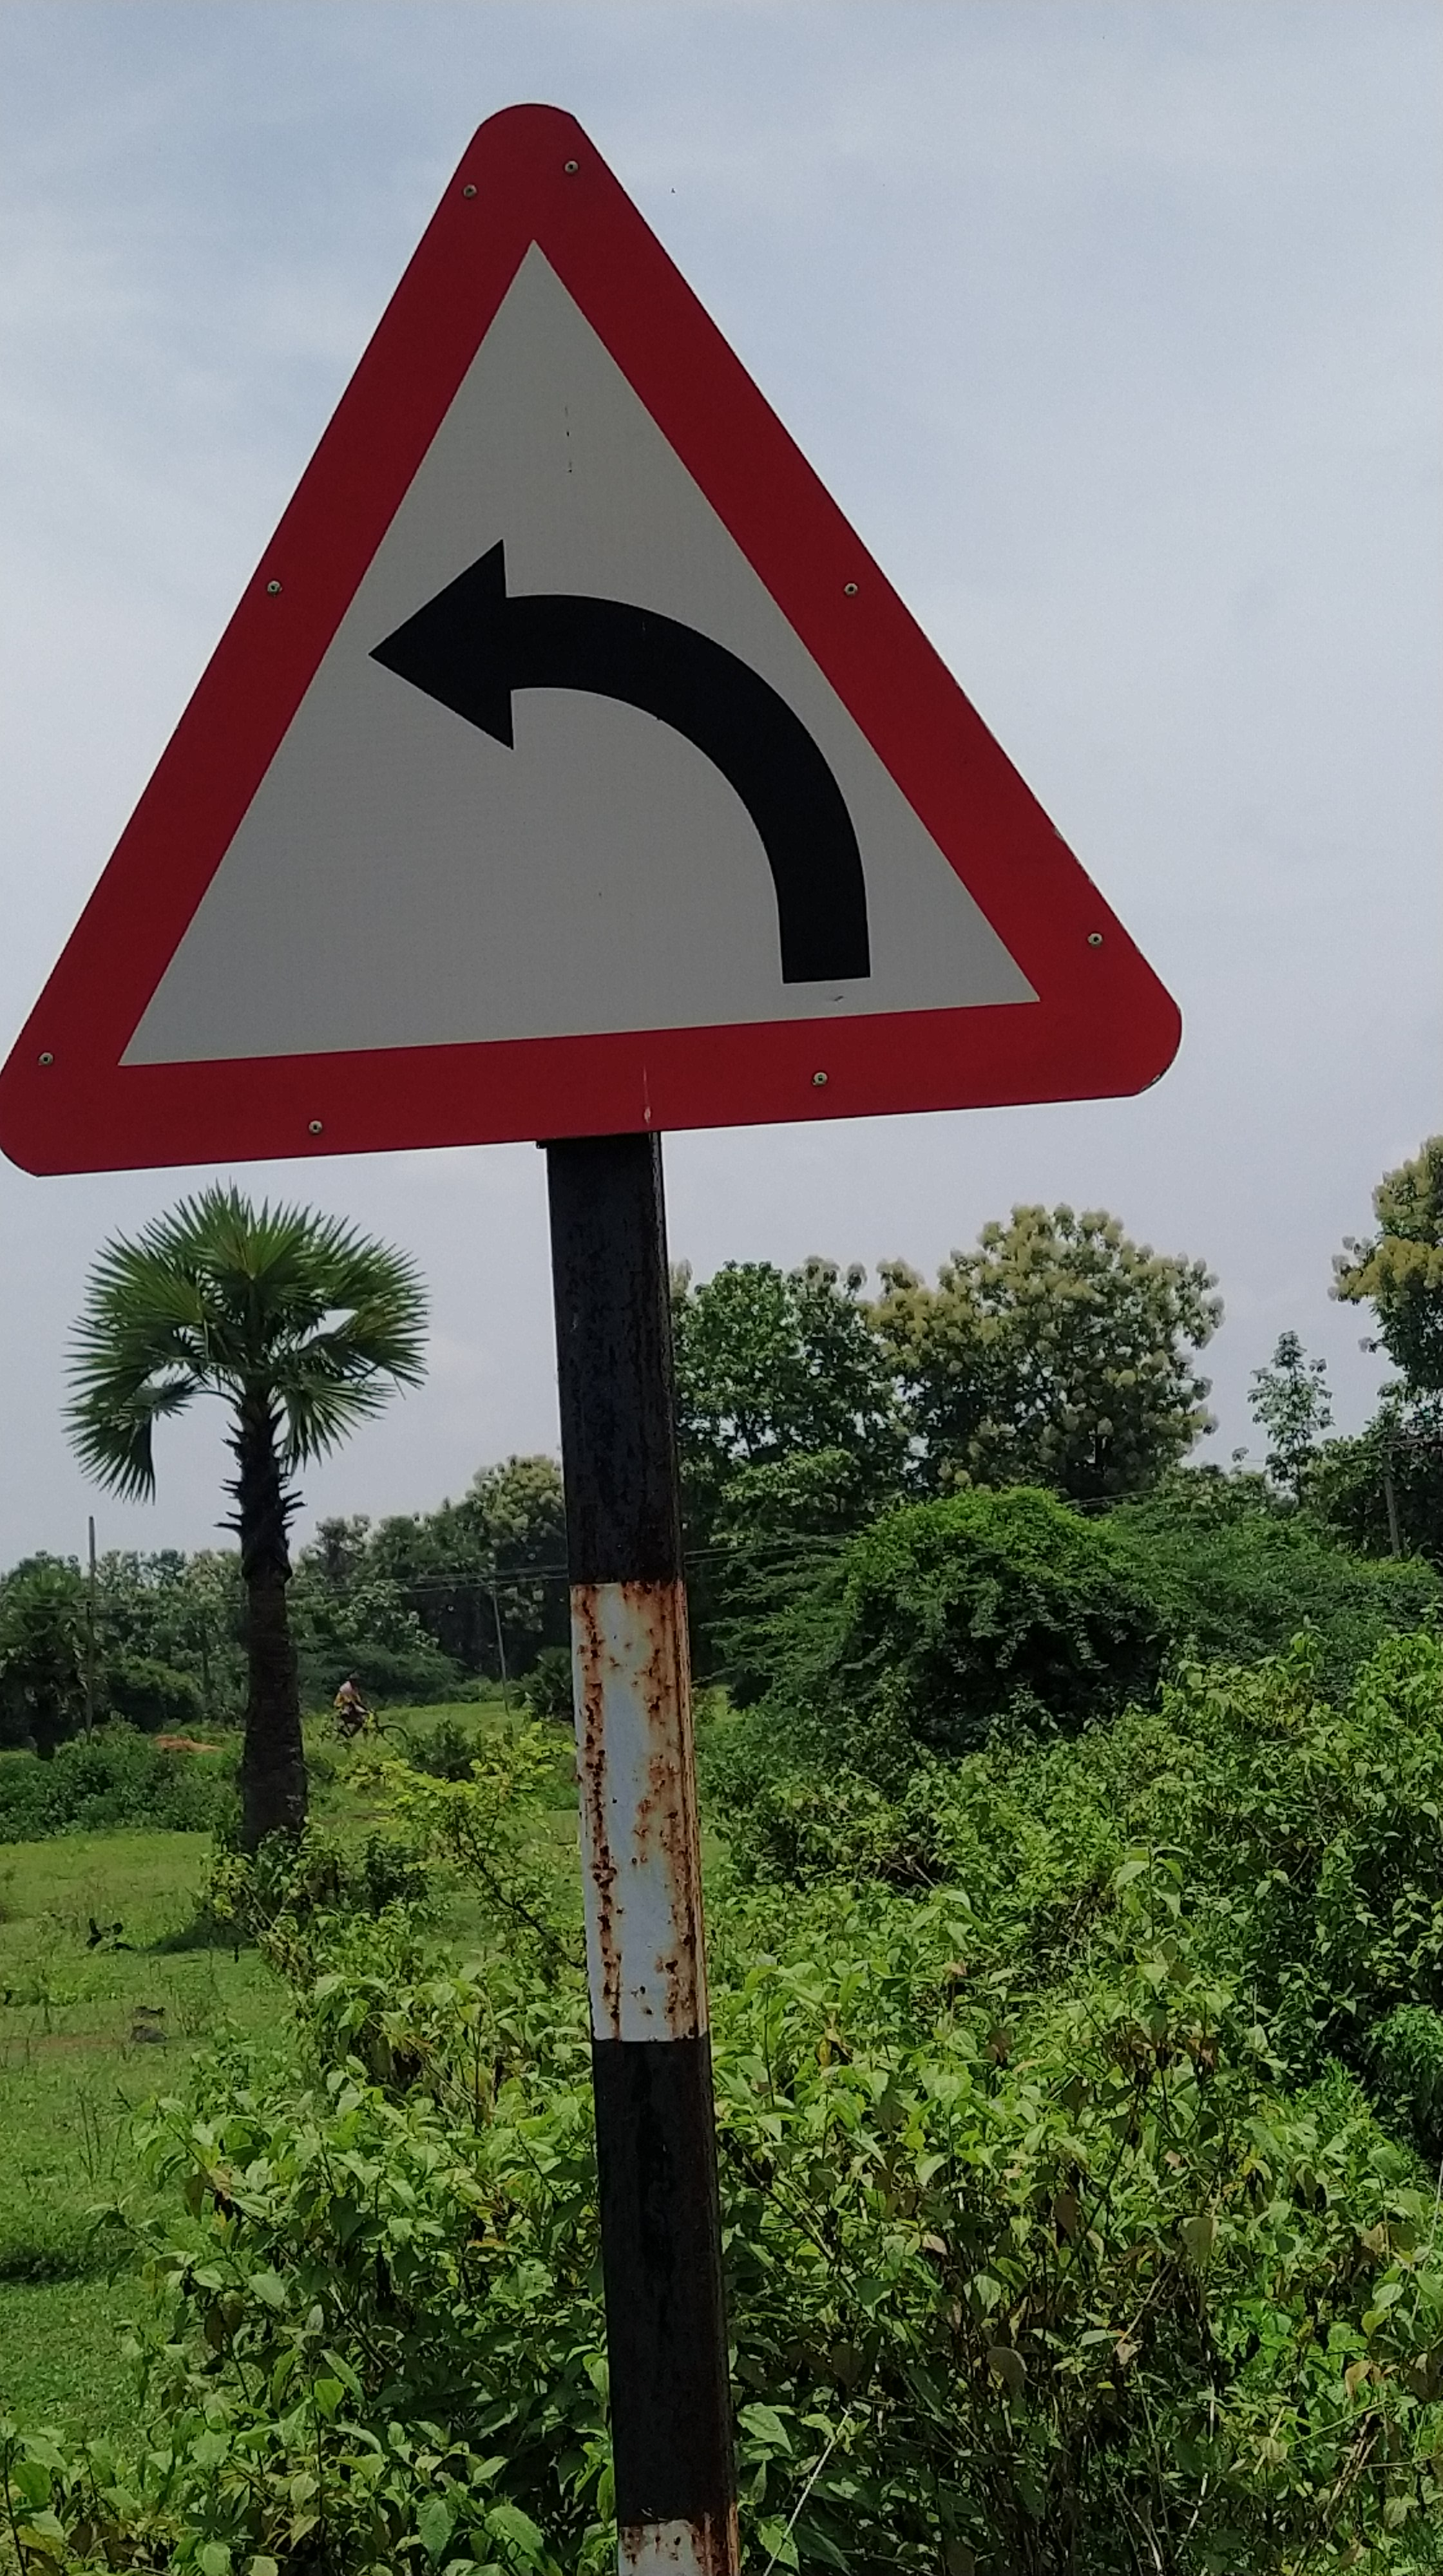Turn left: (42, 83, 1271, 1205)
